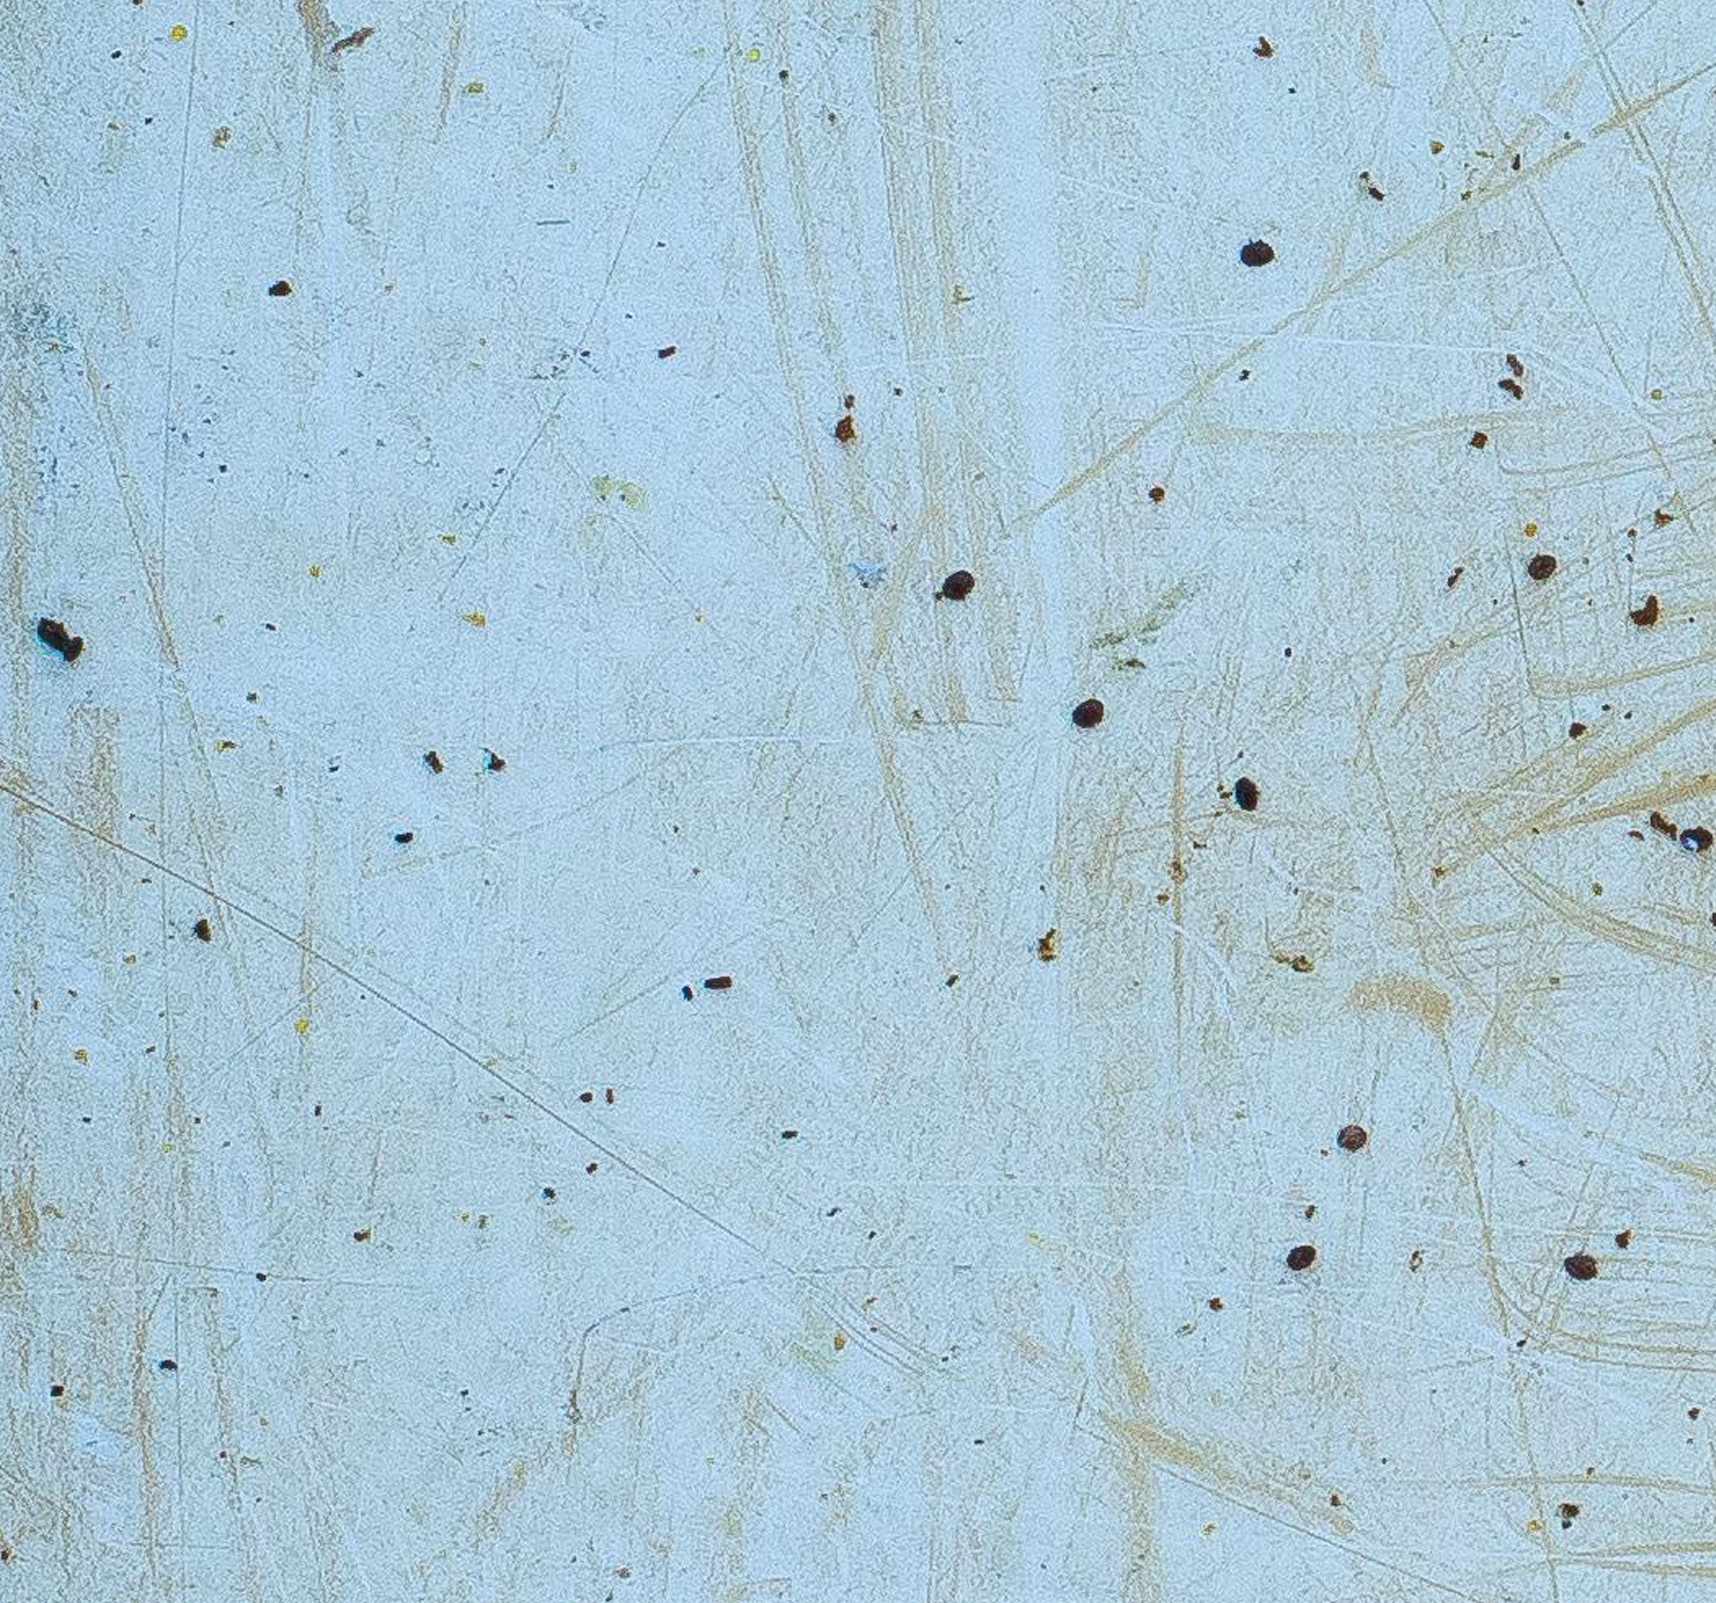Varroa: (1064, 692, 1110, 738), (1237, 227, 1284, 273), (1516, 545, 1562, 591), (1278, 1234, 1323, 1281), (1330, 1118, 1376, 1165), (936, 560, 981, 606), (1226, 774, 1272, 820), (1553, 1246, 1598, 1291)
